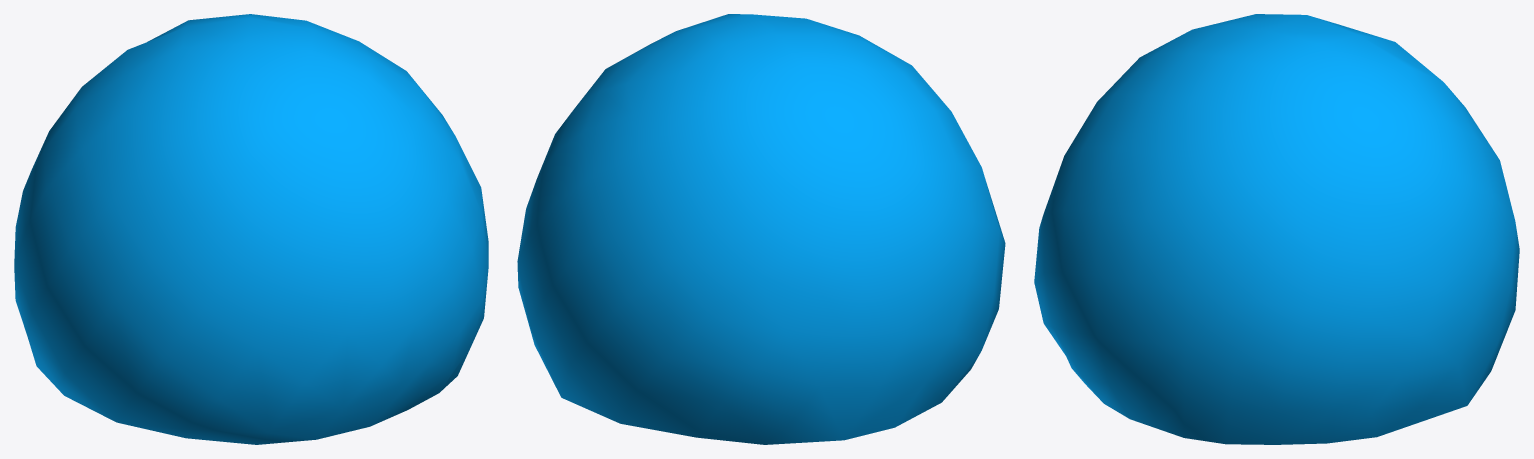
The model's file is Dome.fbx.
3 renders of one model, left to right at view 1: azimuth 30°, elevation 25°; view 2: azimuth 150°, elevation 25°; view 3: azimuth 270°, elevation 25°, orthographic.
Visible parts, largest first — view 1: Dome; view 2: Dome; view 3: Dome.
Boxes of the visible parts, left/top/right/bottom form: Dome: left=14, top=14, right=488, bottom=444; Dome: left=517, top=14, right=1005, bottom=444; Dome: left=1034, top=14, right=1519, bottom=444.
Size of the model in its own units: 5491 by 3975 by 5482.
